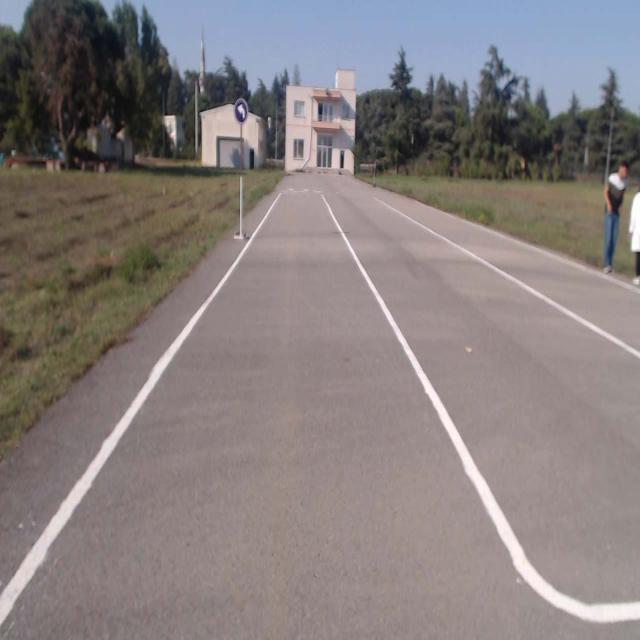sol: (234, 99, 248, 124)
